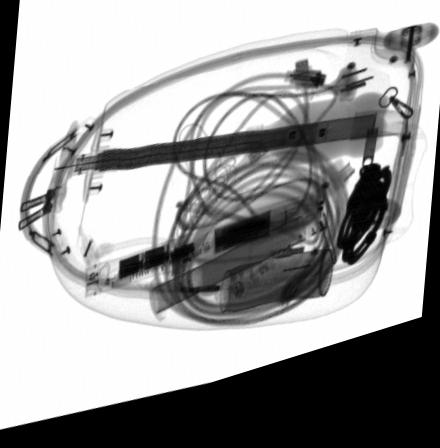Baton: (81, 203, 327, 303)
HandCuffs: (335, 185, 393, 288)
